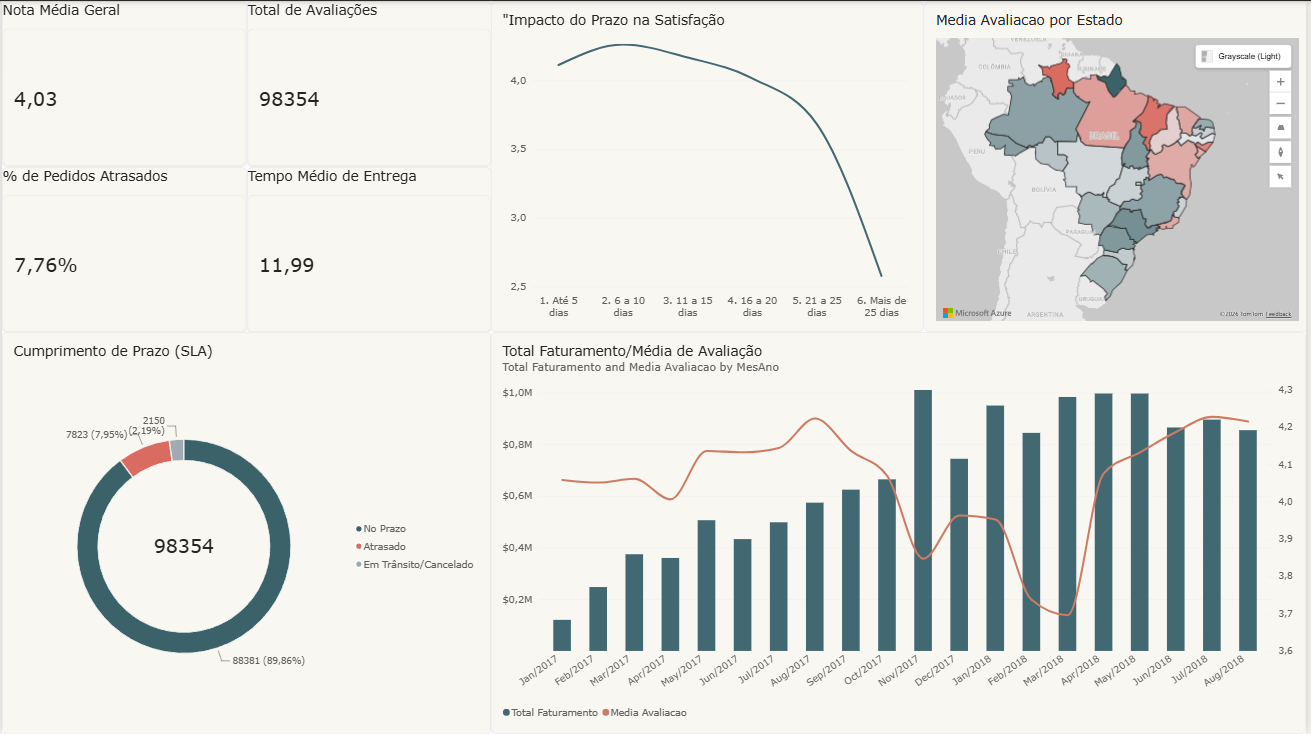

Layout of this report page (visuals, bound fields, positions):
{"tool":"powerbi","page":{"name":"Reviews","canvas":[1920,1080],"ordinal":2},"visuals":[{"type":"lineChart","title":"\"Impacto do Prazo na Satisfação","fields":{"Category":["public facts_orders.Faixa de Entrega"],"Y":["public facts_orders.Media Avaliacao"]},"box":[720,0,637.5,487.5],"z":0},{"type":"donutChart","title":"Cumprimento de Prazo (SLA)","fields":{"Category":["public facts_orders.Status SLA"],"Y":["Count(public facts_orders.order_id)"]},"box":[0,488,720,592],"z":1000},{"type":"lineStackedColumnComboChart","title":"Total Faturamento/Média de Avaliação","fields":{"Category":["dCalendario.MesAno"],"Y":["public facts_orders.Total Faturamento"],"Y2":["public facts_orders.Media Avaliacao"]},"box":[720,488.6,1200,591.4],"z":2000},{"type":"azureMap","title":"Media Avaliacao por Estado","fields":{"Category":["public dim_customer.Estado_Brasil"]},"box":[1357.5,0,567.5,487.5],"z":3000},{"type":"cardVisual","title":"Nota Média Geral","fields":{"Data":["public facts_orders.Media Avaliacao"]},"box":[0,0,360,244],"z":4000},{"type":"cardVisual","title":"Total de Avaliações","fields":{"Data":["Count(public facts_orders.order_id)"]},"box":[360,0,360,244],"z":5000},{"type":"cardVisual","title":"% de Pedidos Atrasados","fields":{"Data":["dCalendario.% Pedidos Atrasados"]},"box":[0,244,360,244],"z":6000},{"type":"cardVisual","title":"Tempo Médio de Entrega","fields":{"Data":["Avg(public facts_orders.days_to_deliver)"]},"box":[360,244,360,244],"z":7000}]}

Visuals, with their boxes in screenshot pixels (x1, y1, x2, y2), scaled from the page's 1920x1080 canvas onto the 1311x734 screenshot:
""Impacto do Prazo na Satisfação" lineChart: <bbox>492, 0, 927, 331</bbox>
"Cumprimento de Prazo (SLA)" donutChart: <bbox>0, 332, 492, 733</bbox>
"Total Faturamento/Média de Avaliação" lineStackedColumnComboChart: <bbox>492, 332, 1310, 733</bbox>
"Media Avaliacao por Estado" azureMap: <bbox>927, 0, 1310, 331</bbox>
"Nota Média Geral" cardVisual: <bbox>0, 0, 246, 166</bbox>
"Total de Avaliações" cardVisual: <bbox>246, 0, 492, 166</bbox>
"% de Pedidos Atrasados" cardVisual: <bbox>0, 166, 246, 332</bbox>
"Tempo Médio de Entrega" cardVisual: <bbox>246, 166, 492, 332</bbox>
